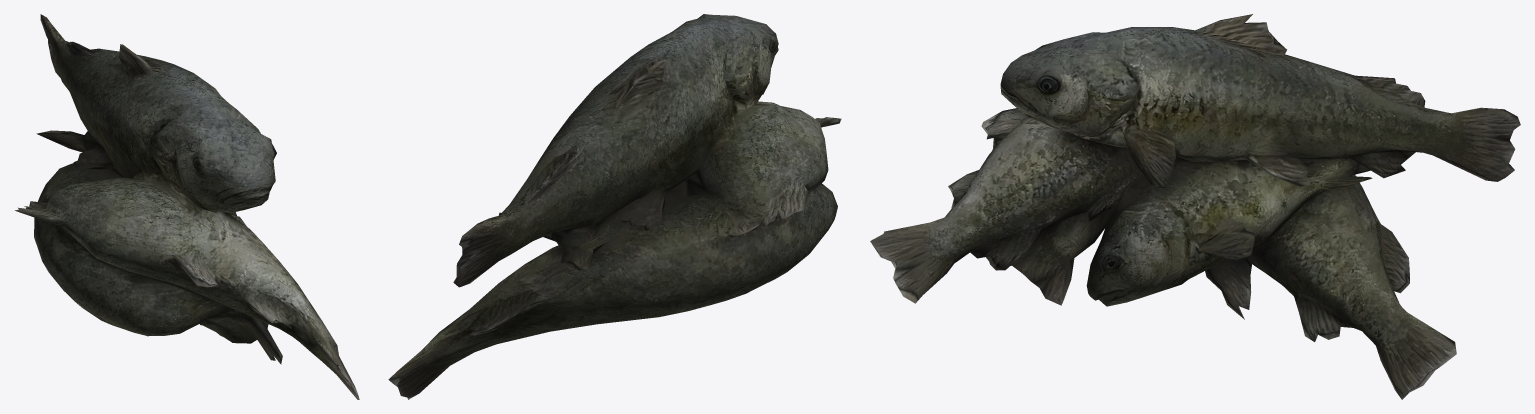
File: fish_pile.glb
3 views of the same model, side by side, from view 1: azimuth 30°, elevation 25°; view 2: azimuth 150°, elevation 25°; view 3: azimuth 270°, elevation 25° (orthographic). The views are drawn at different scales.
Parts seen in each view (by area): view 1: tripo_node_43382b42-7987-425f-bd8a-ba1267da4a29; view 2: tripo_node_43382b42-7987-425f-bd8a-ba1267da4a29; view 3: tripo_node_43382b42-7987-425f-bd8a-ba1267da4a29.
Boxes of the visible parts, left/top/right/bottom form: tripo_node_43382b42-7987-425f-bd8a-ba1267da4a29: left=15, top=14, right=359, bottom=399; tripo_node_43382b42-7987-425f-bd8a-ba1267da4a29: left=388, top=14, right=841, bottom=399; tripo_node_43382b42-7987-425f-bd8a-ba1267da4a29: left=870, top=14, right=1520, bottom=399.
Size of the model in its own units: 0.5163 by 0.522 by 1.
1 material, 1 textured.
